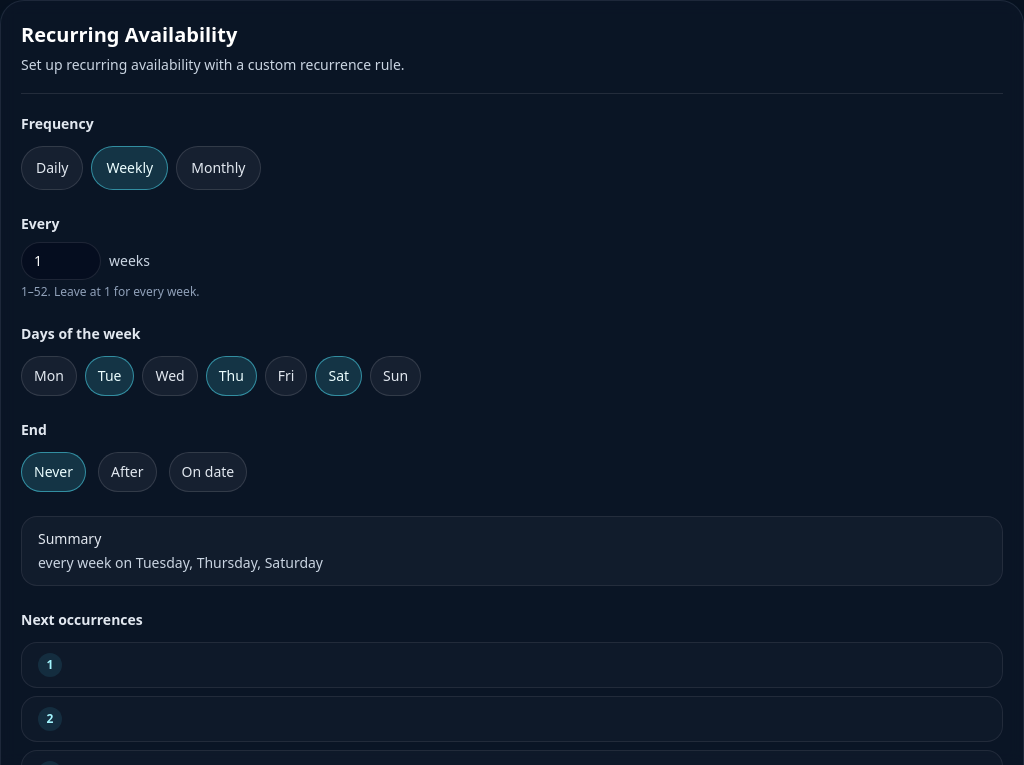
RecurringAvailabilityEditor › failure path: no weekday selected while frequency requires weekdays › recovers when at least one day is re-selected
Click the checkbox labelled "Tue" at (110, 376), box [85,356,134,396]
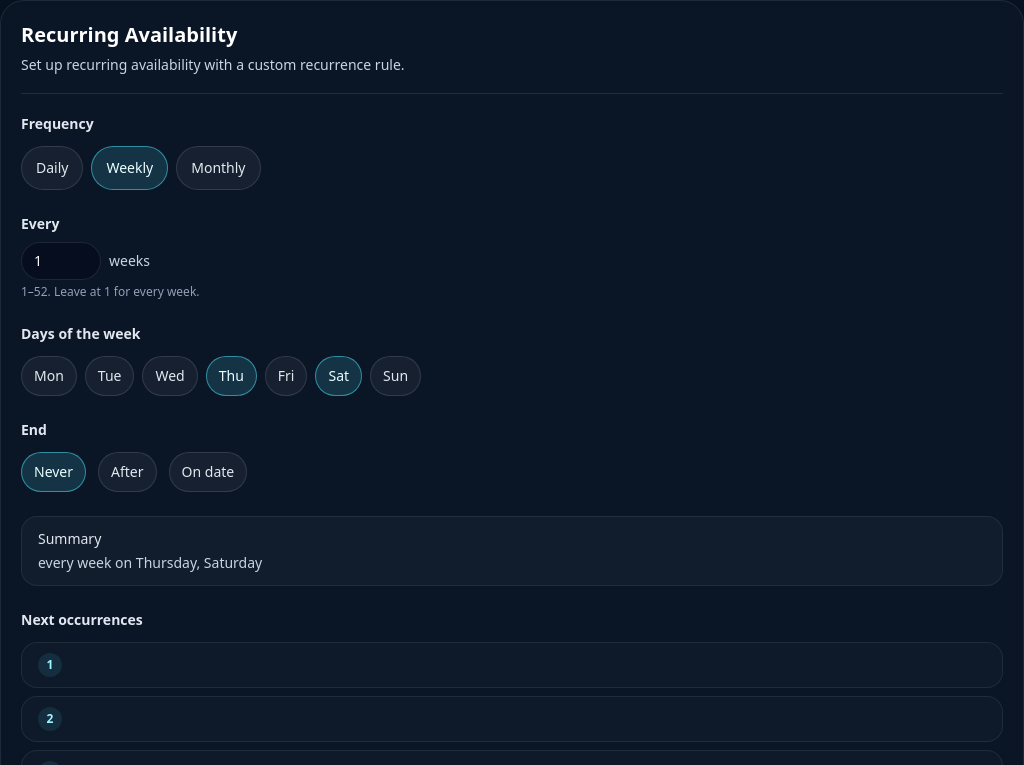
Click the checkbox labelled "Thu" at (231, 376), box [206,356,257,396]
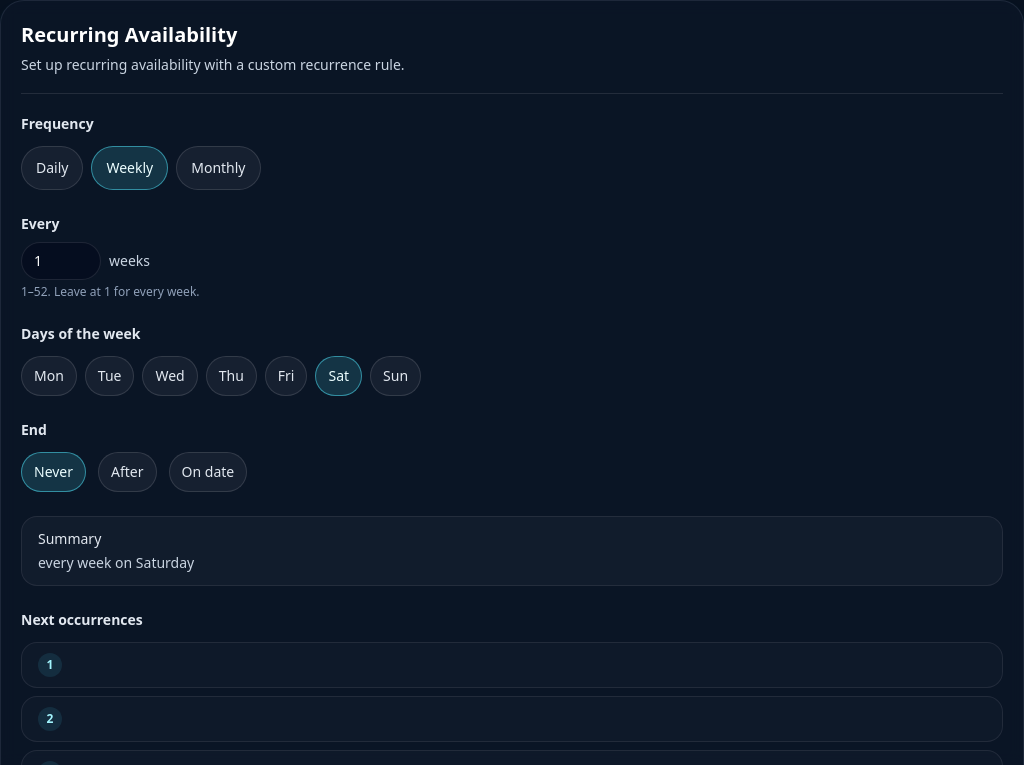
Click the checkbox labelled "Sat" at (339, 376), box [316,356,362,396]
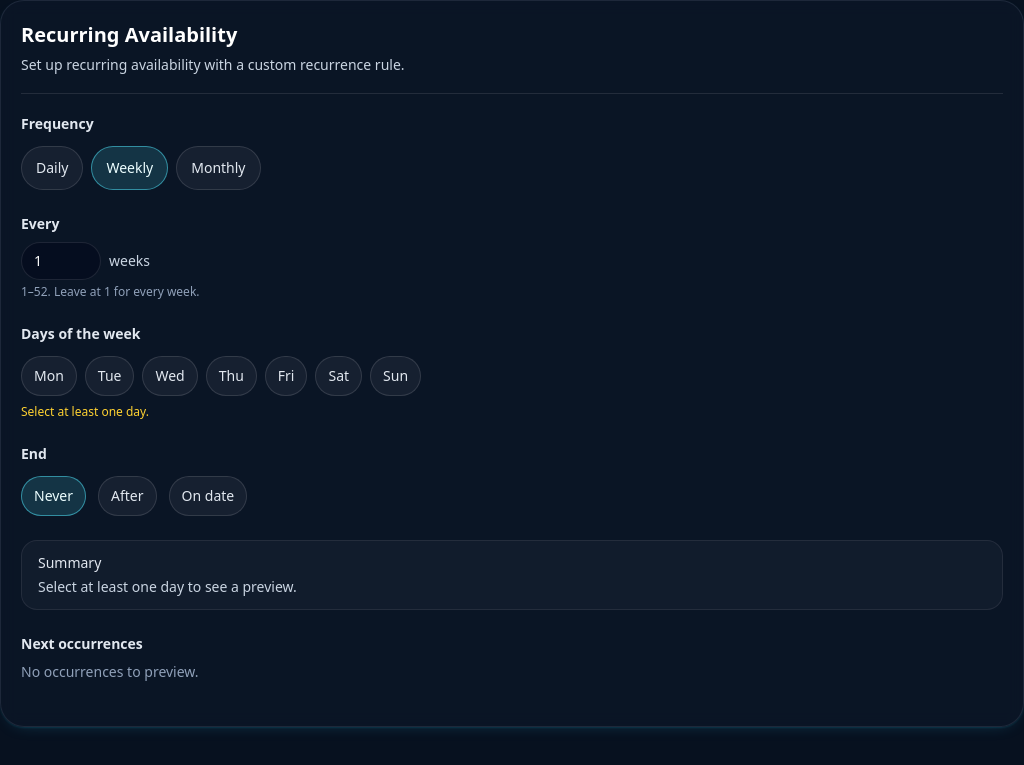
Result: the message "Select at least one day." is shown at [21,403,149,420]
Click the checkbox labelled "Mon" at (49, 376), box [21,356,77,396]
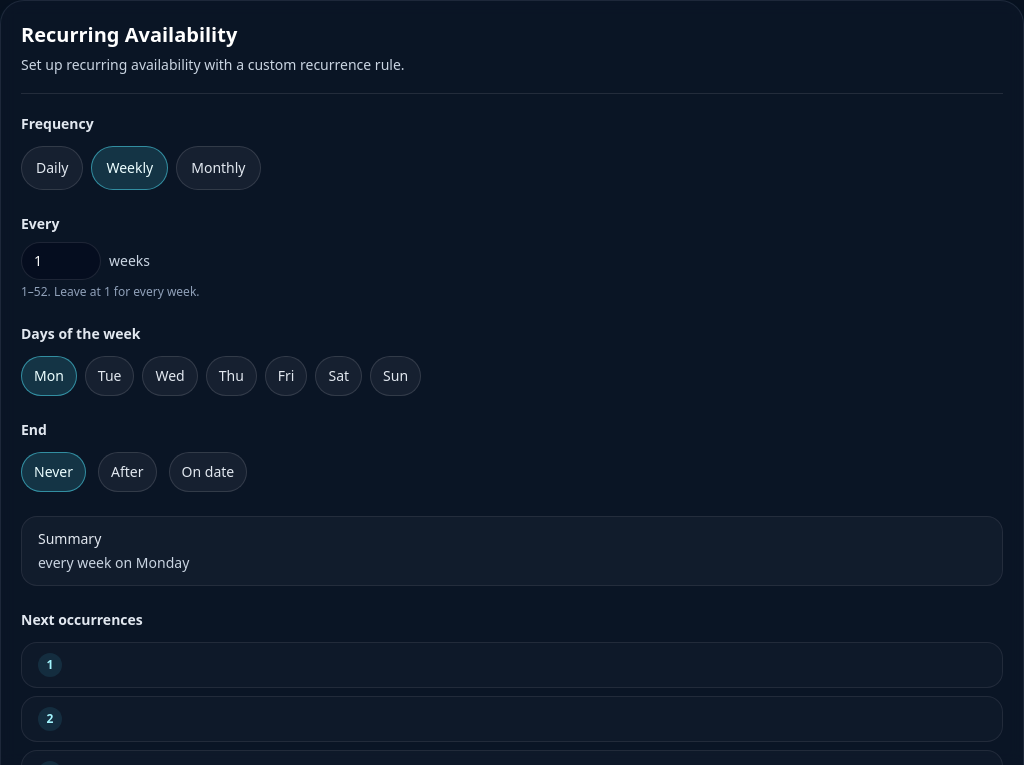
Result: the message "Select at least one day." is gone
Result: the text "Select at least one day to see a preview" is gone
